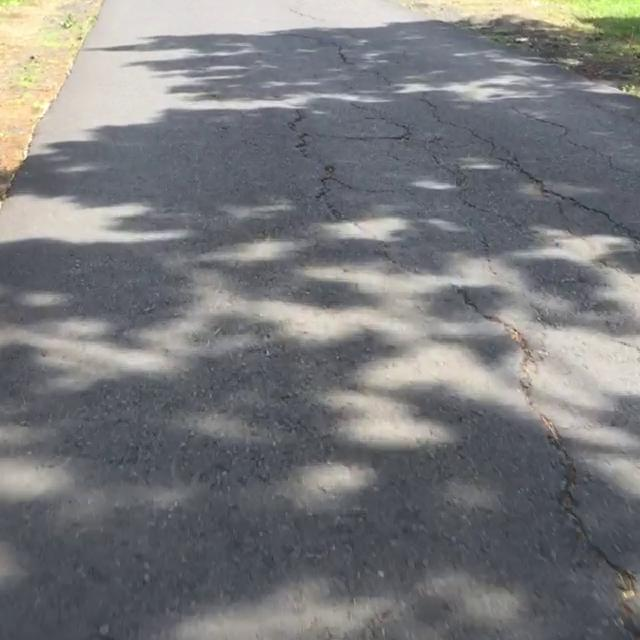retak_memanjang: (487, 310, 640, 640), (419, 106, 637, 241), (256, 86, 349, 234)
